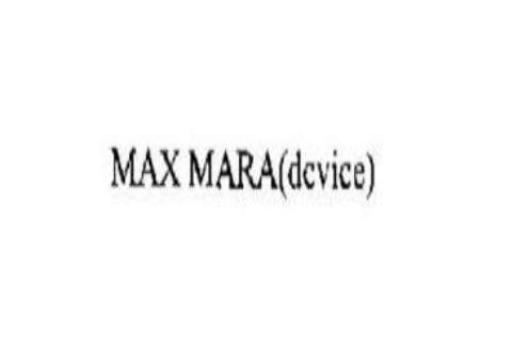MAX-MARA: (114, 145, 388, 200)
